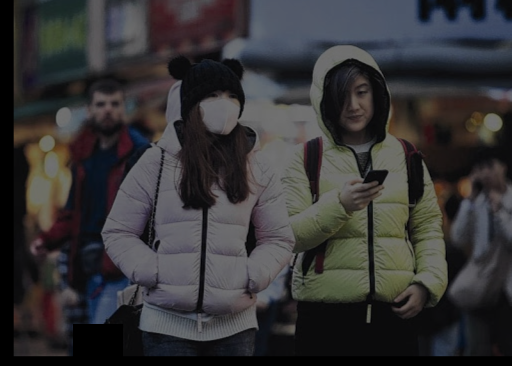with_mask: (198, 90, 239, 134)
without_mask: (338, 80, 373, 131), (92, 95, 122, 132)
